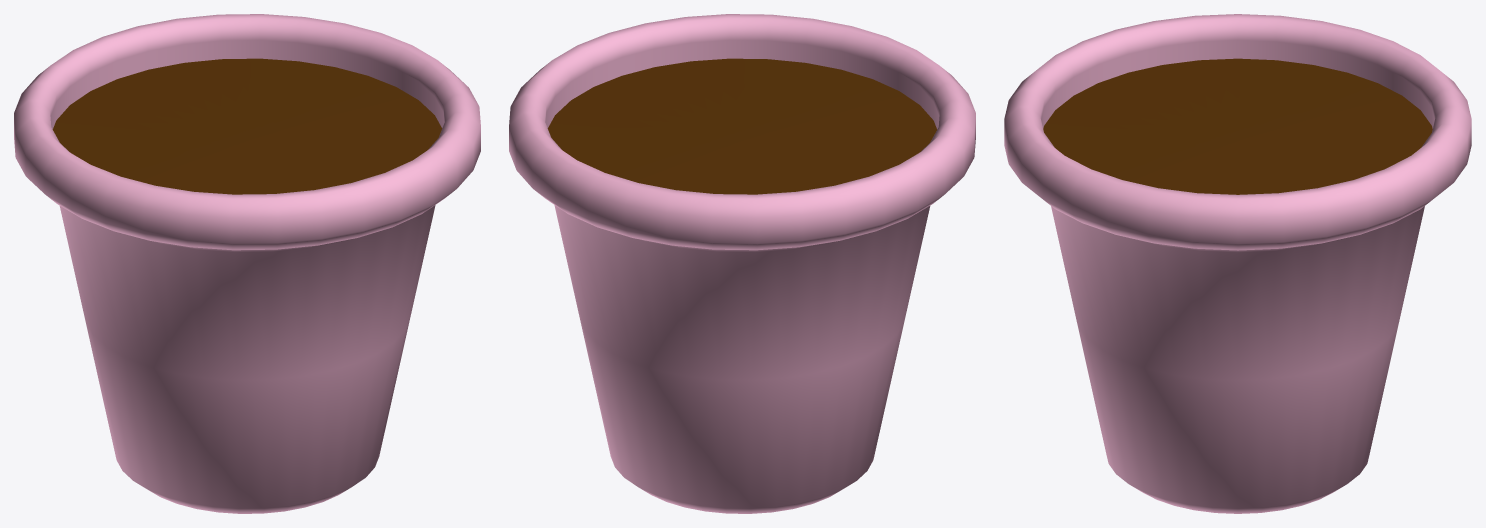
Rendered from SM_Pot30CM.fbx.
The picture shows the model from 3 angles, left to right: view 1: azimuth 30°, elevation 25°; view 2: azimuth 150°, elevation 25°; view 3: azimuth 270°, elevation 25°; orthographic projection.
Parts seen in each view (by area): view 1: Pot1M; view 2: Pot1M; view 3: Pot1M.
Boxes of the visible parts, x1,y1,x2,y2 form: Pot1M: [14, 14, 480, 513]; Pot1M: [509, 14, 975, 513]; Pot1M: [1004, 14, 1471, 513].
Size of the model in its own units: 236 by 236 by 200.
